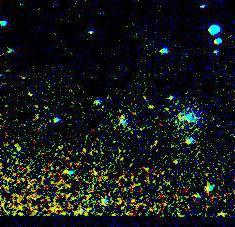star: (135, 92, 165, 122)
